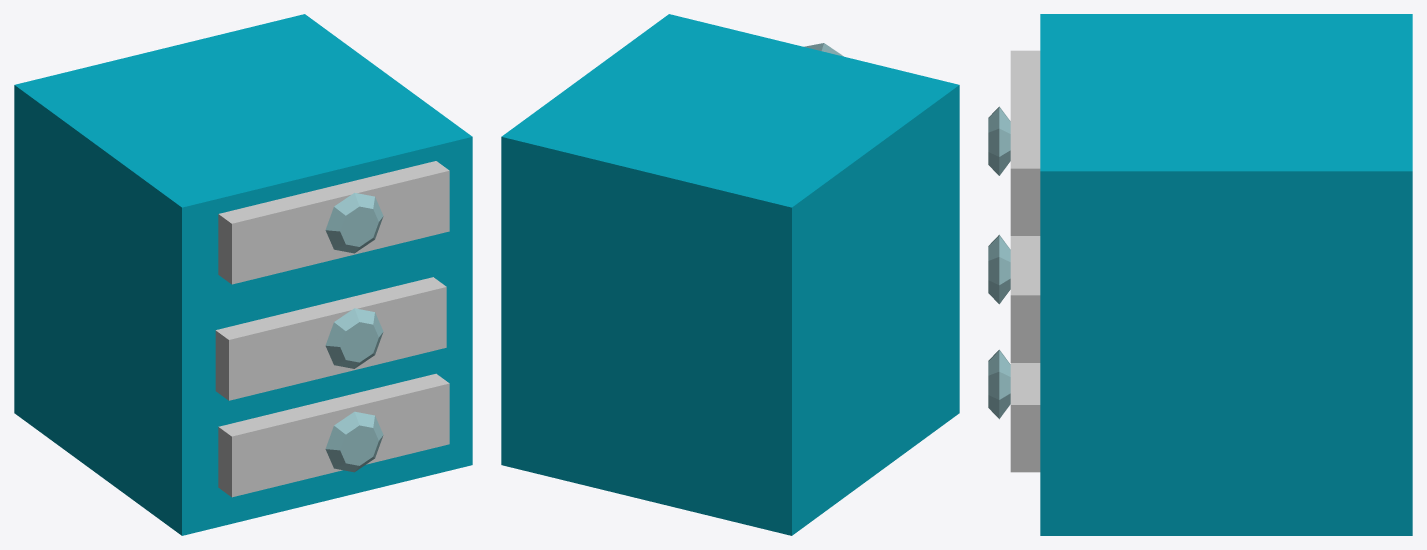
Rendered from Cool Jarv.glb.
The picture shows the model from 3 angles, left to right: view 1: azimuth 30°, elevation 25°; view 2: azimuth 150°, elevation 25°; view 3: azimuth 270°, elevation 25°; orthographic projection. The views are drawn at different scales.
Visible parts, largest first — view 1: Mesh_Mesh_head_geo.001_lambert2SG.001; view 2: Mesh_Mesh_head_geo.001_lambert2SG.001; view 3: Mesh_Mesh_head_geo.001_lambert2SG.001.
Part boxes in pixels (x1,y1,x2,y2): Mesh_Mesh_head_geo.001_lambert2SG.001: (14, 14, 472, 535); Mesh_Mesh_head_geo.001_lambert2SG.001: (501, 14, 959, 535); Mesh_Mesh_head_geo.001_lambert2SG.001: (988, 14, 1412, 535).
Bounding box in the file's own units: 100 × 108 × 114.
